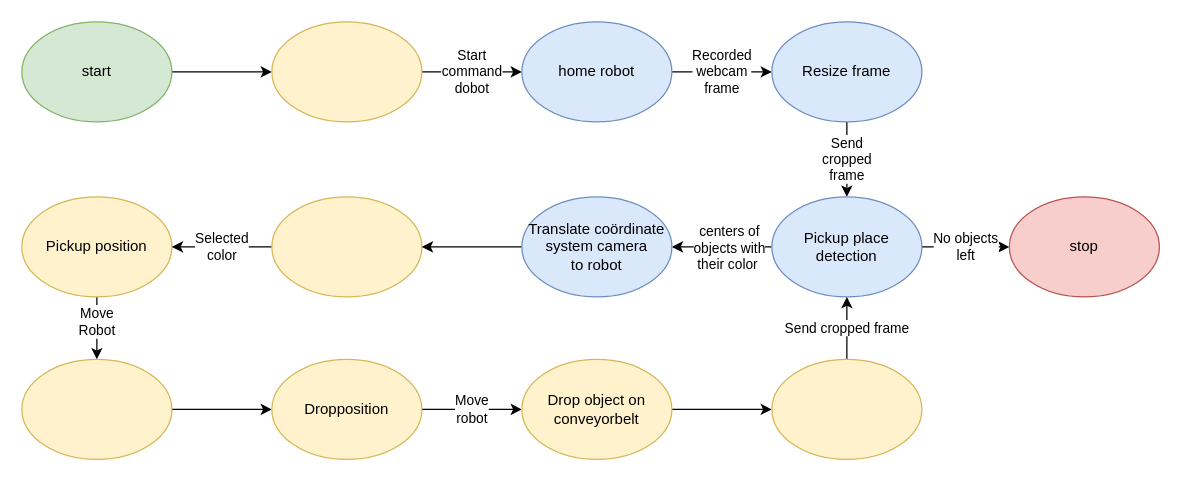
The diagram is 1181 pixels wide and 481 high, and some of its shapes have lost their labels. The centre of each missing label's shape, as x and y in pixels:
"initialize" goes at pixel 346 71.
"Pick up selected Object" goes at pixel 96 408.
"Retake photo" goes at pixel 846 408.
"User color choice UI" goes at pixel 346 246.
